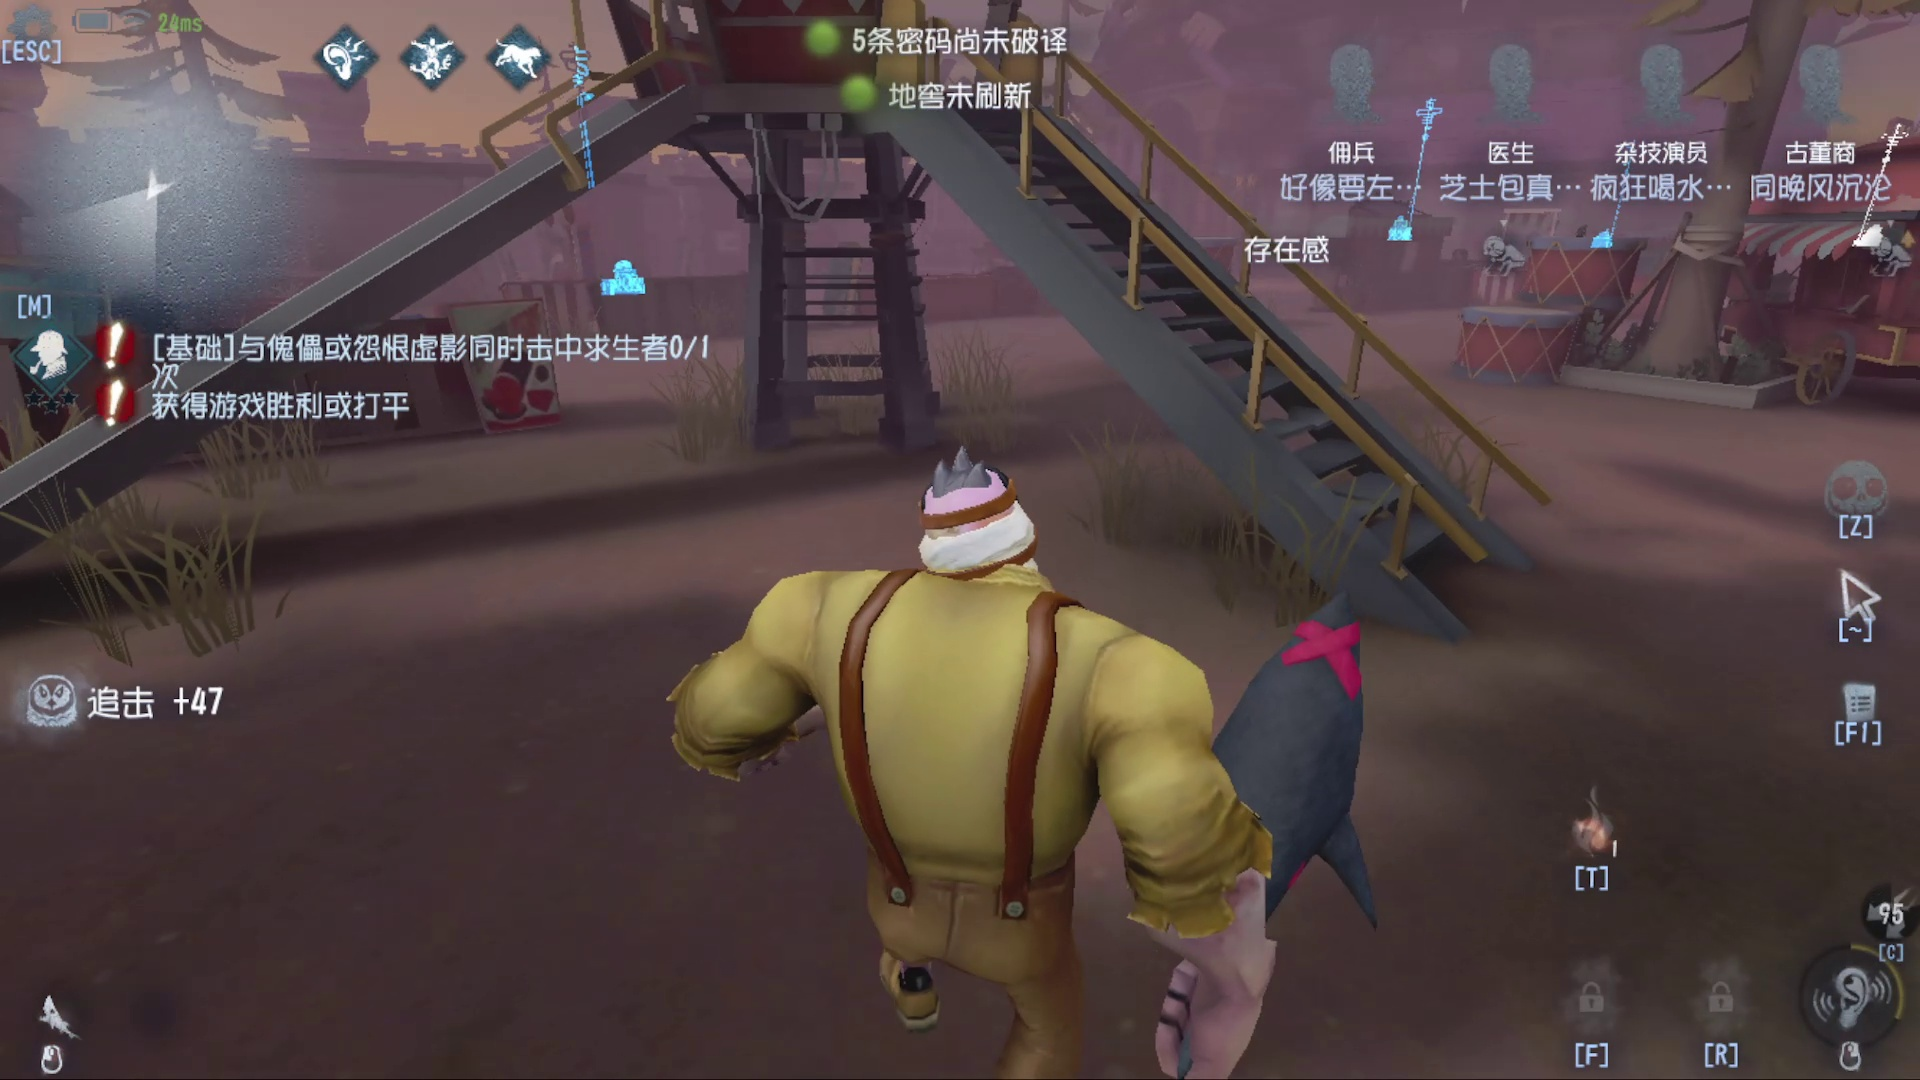密码机: (553, 36, 663, 311), (1382, 96, 1447, 251), (1862, 117, 1903, 264), (1586, 149, 1639, 262)
木板: (807, 231, 868, 324)
